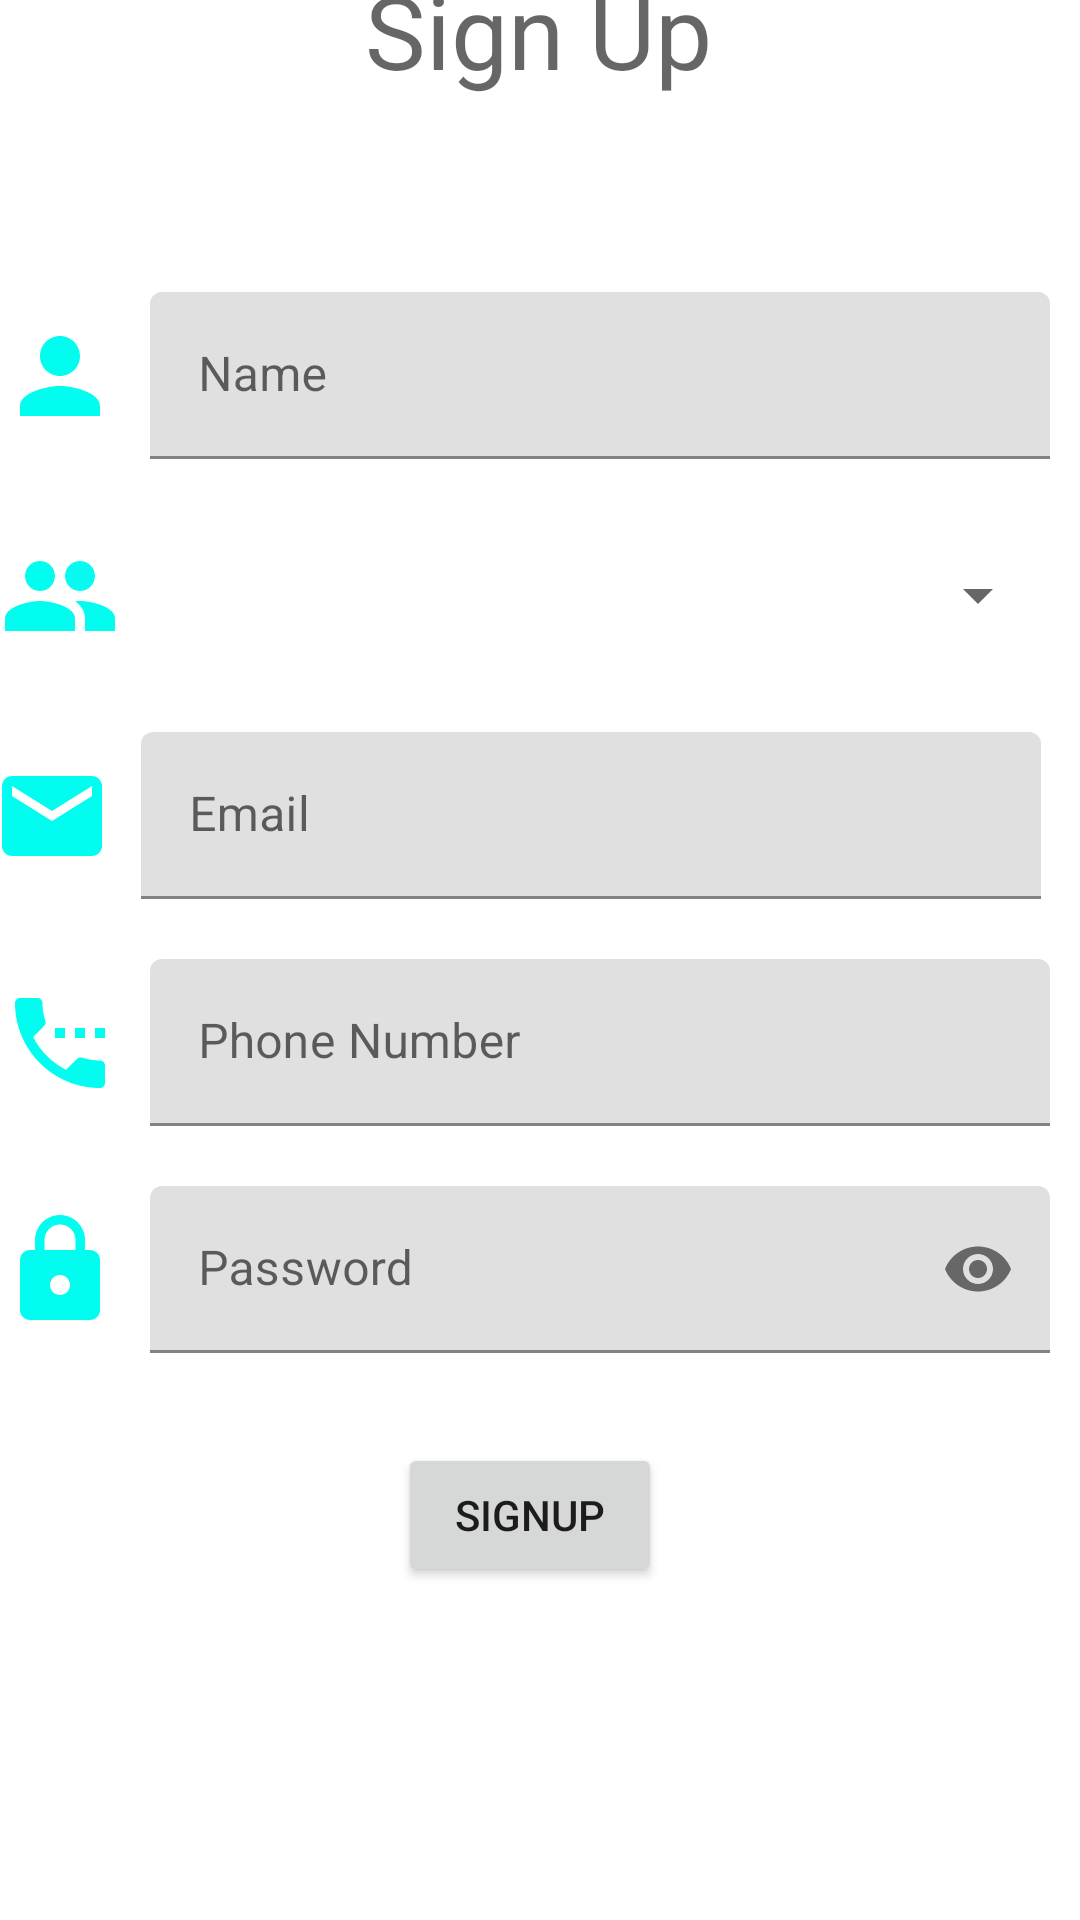

Icons on this 1080 x 1920 Android screen, each with its box as (x1, y1, x2, y2):
lock: (20, 1215, 100, 1320)
people: (5, 561, 115, 631)
person: (20, 336, 100, 416)
settings phone: (15, 998, 105, 1088)
